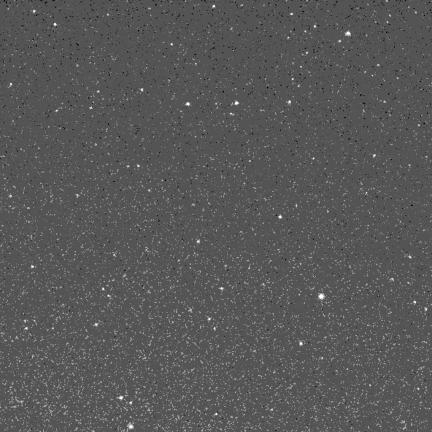blob: (319, 294, 324, 300), (345, 31, 350, 36), (373, 154, 377, 159), (118, 396, 123, 399), (185, 103, 190, 106), (279, 215, 282, 219), (300, 342, 303, 345), (54, 23, 57, 26)
